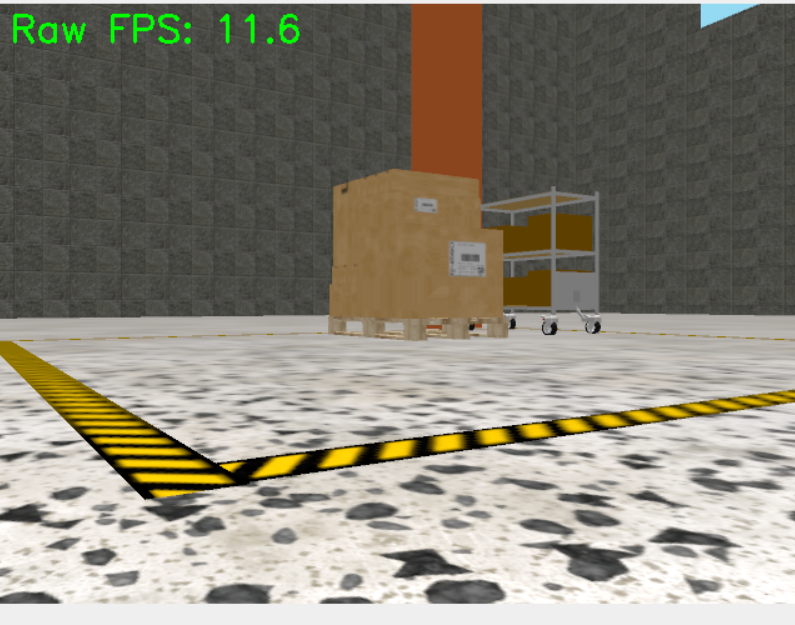barcode: (449, 240, 487, 278), (416, 197, 439, 215)
